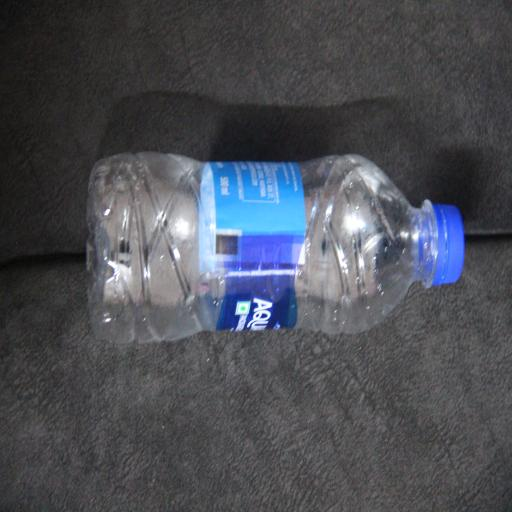Aquafina: (103, 72, 227, 512)
